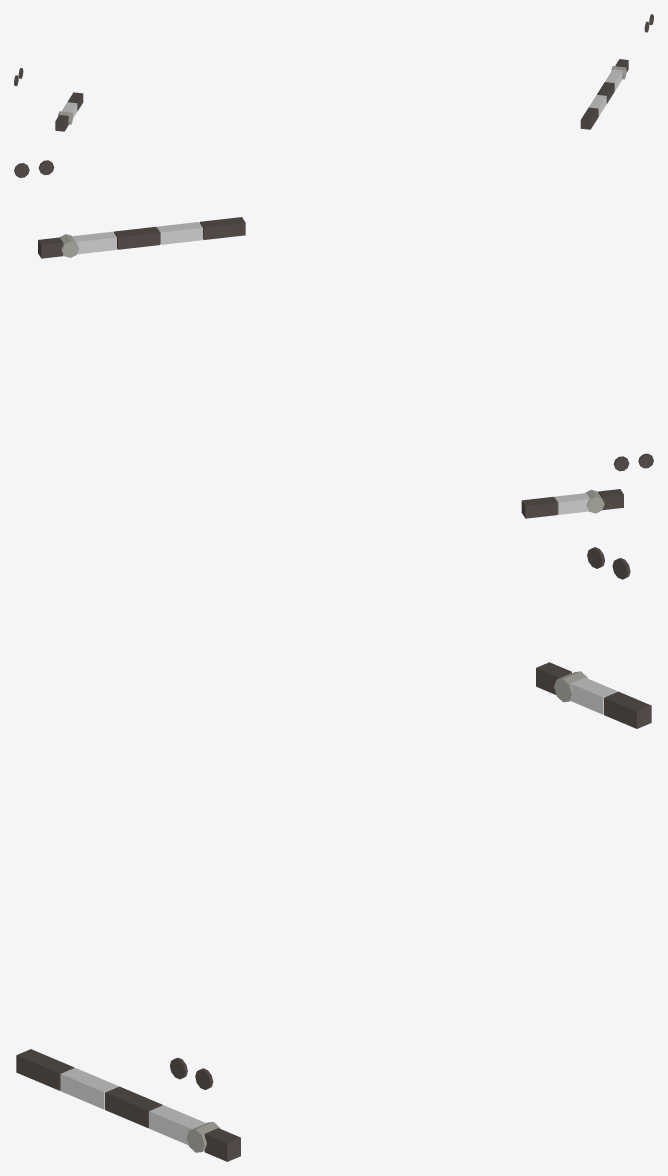
The model's file is SM_PasoNivel_45_v2_Abandonado_LOD1.fbx.
3 renders of one model, top to bottom at view 1: azimuth 30°, elevation 25°; view 2: azimuth 150°, elevation 25°; view 3: azimuth 270°, elevation 25°, orthographic. The views are drawn at different scales.
Parts seen in each view (by area): view 1: Barrera_1, Barrera_2; view 2: Barrera_1, Barrera_2; view 3: Barrera_1, Barrera_2.
Boxes of the visible parts, x1,y1,x2,y2 form: Barrera_1: (580, 59, 628, 129); Barrera_2: (55, 92, 83, 131); Barrera_1: (38, 217, 245, 258); Barrera_2: (521, 489, 623, 518); Barrera_1: (16, 1049, 240, 1161); Barrera_2: (536, 662, 651, 728).
Size of what is drawn, in the model's own units: 19.63 by 1.91 by 9.9.
